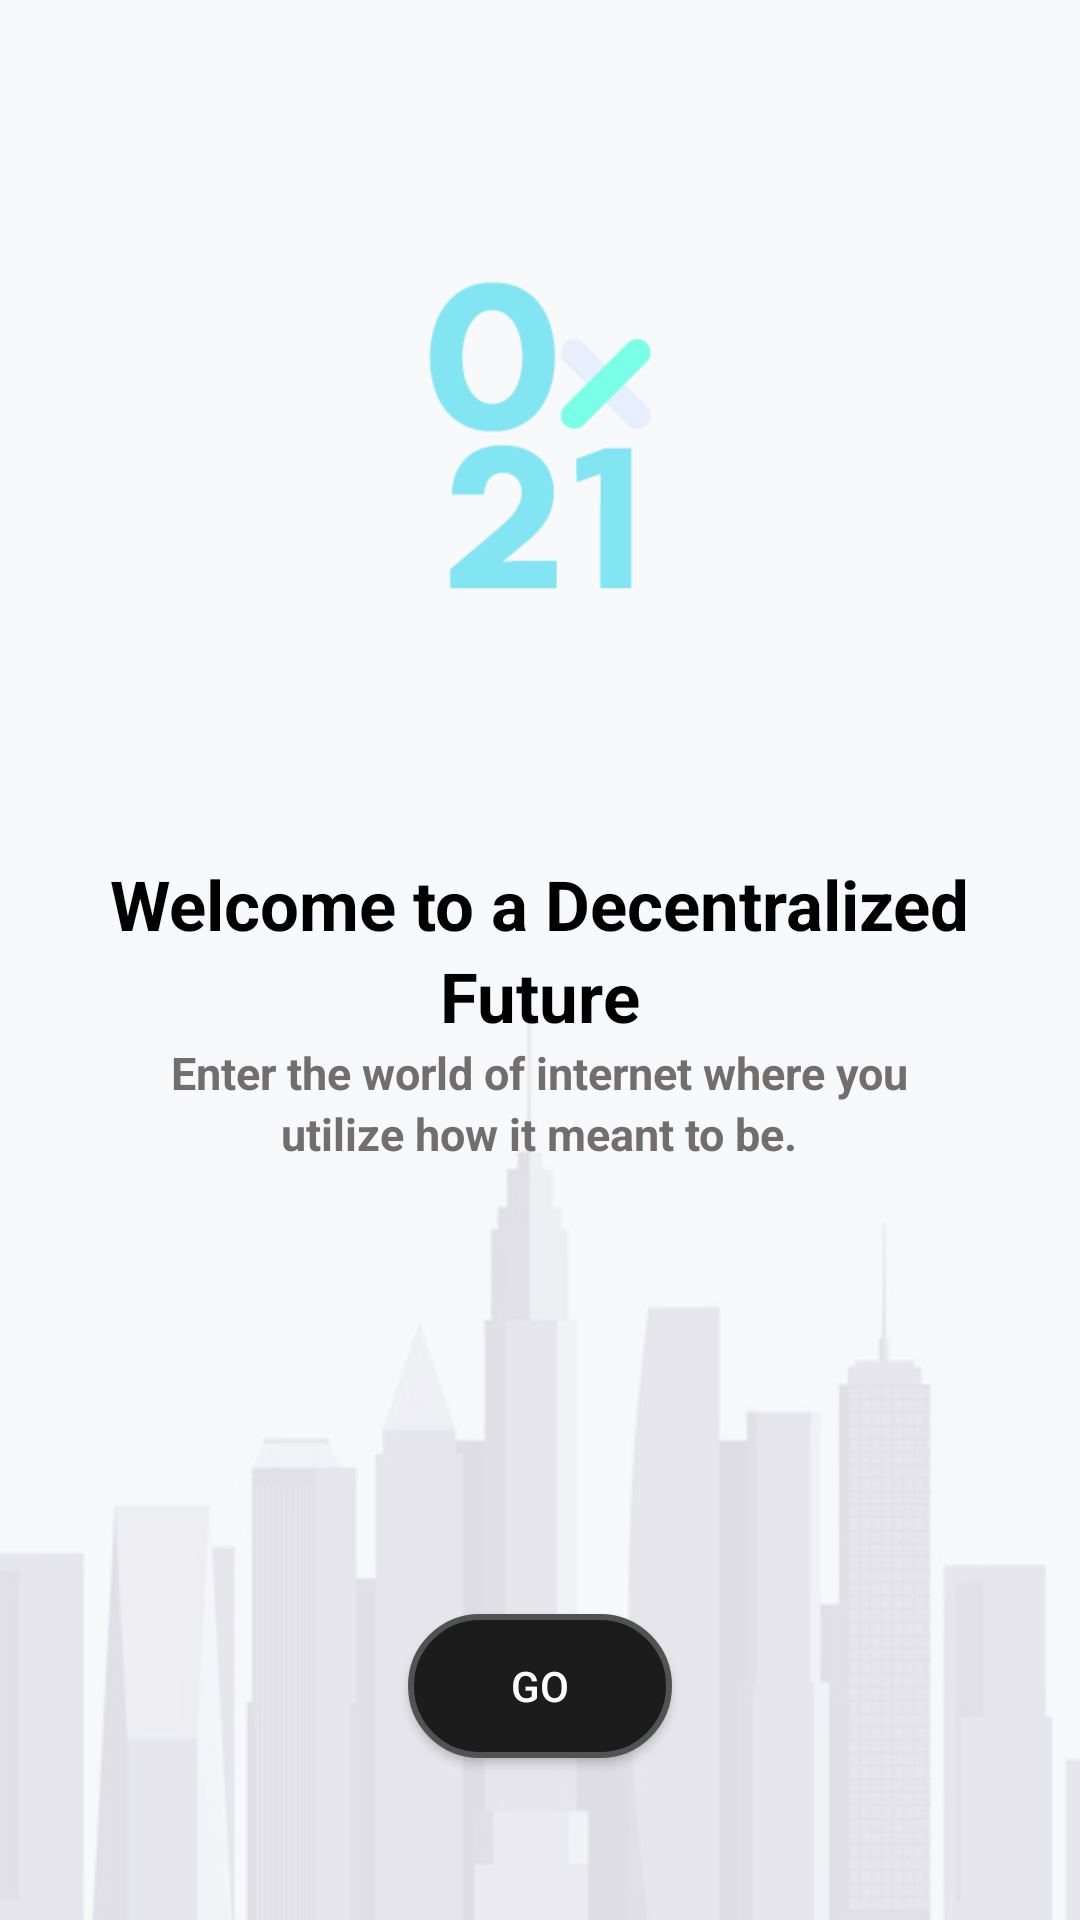

Locate icon controls on the screen. Image size 1080 x 1920, boxes as (x1, y1, x2, y2).
num: (429, 282, 651, 589)
